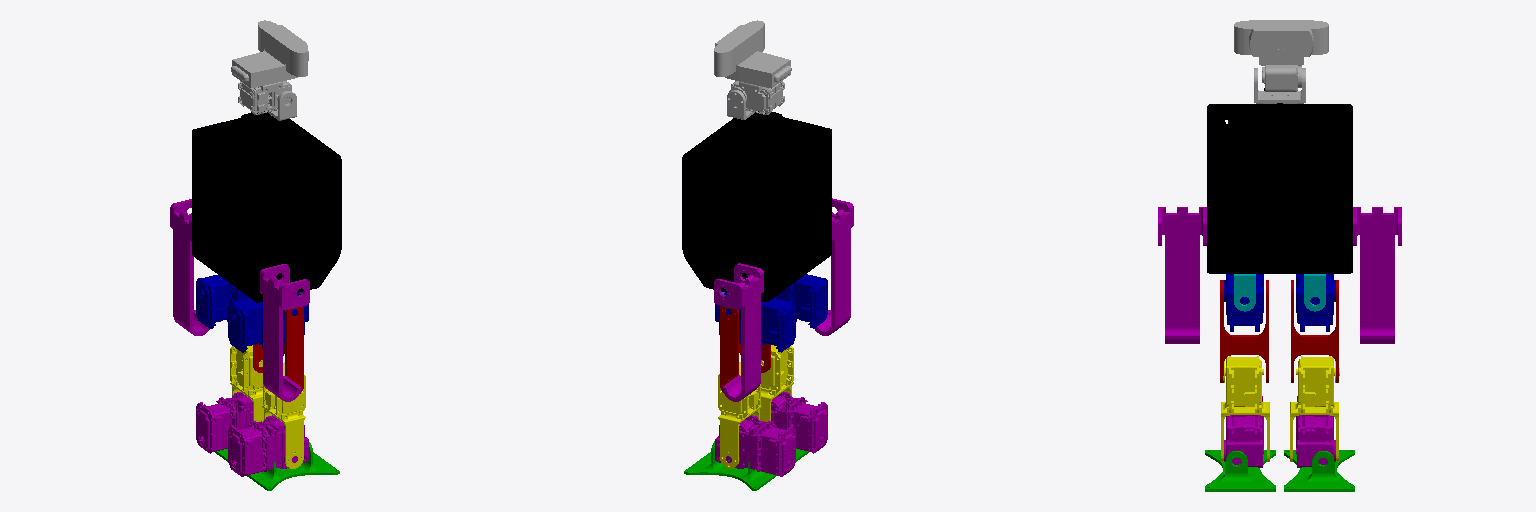
URDF robot description (soccerbot):
<?xml version="1.0" ?>
<!-- =================================================================================== -->
<!-- |    This document was autogenerated by xacro from models/soccerbot.xacro         | -->
<!-- |    EDITING THIS FILE BY HAND IS NOT RECOMMENDED                                 | -->
<!-- =================================================================================== -->
<robot name="soccerbot">
  <material name="white">
    <color rgba="1.0 1.0 1.0 1.0"/>
  </material>
  <material name="black">
    <color rgba="0.0 0.0 0.0 1.0"/>
  </material>
  <material name="silver">
    <color rgba="0.7 0.7 0.7 1.0"/>
  </material>
  <material name="yellow">
    <color rgba="0.9 0.9 0.0 1.0"/>
  </material>
  <material name="red">
    <color rgba="0.7 0.0 0.0 1.0"/>
  </material>
  <material name="green">
    <color rgba="0.0 0.7 0.0 1.0"/>
  </material>
  <material name="blue">
    <color rgba="0.0 0.0 0.7 1.0"/>
  </material>
  <material name="purple">
    <color rgba="0.7 0.0 0.7 1.0"/>
  </material>
  <material name="cyan">
    <color rgba="0.0 0.7 0.7 1.0"/>
  </material>
  <link name="/torso">
    <inertial>
      <mass value="1.529"/>
      <origin rpy="0 0 0" xyz="0.0082498 -0.0017440 -0.0522479"/>
      <inertia ixx="4.323e-3" ixy="5.549e-6" ixz="3.960e-5" iyy="5.198e-3" iyz="-1.509e-5" izz="3.567e-3"/>
    </inertial>
    <collision name="collision">
      <origin rpy="0 0 0" xyz="0 0 0"/>
      <geometry>
        <mesh filename="../meshes/torso.dae" scale="1 1 1"/>
      </geometry>
    </collision>
    <visual name="visual">
      <origin rpy="0 0 0" xyz="0 0 0"/>
      <geometry>
        <mesh filename="../meshes/torso.dae" scale="1 1 1"/>
      </geometry>
      <material name="black"/>
    </visual>
  </link>
  <link name="/left_bicep">
    <inertial>
      <mass value="0.213e-3"/>
      <origin rpy="0  0  0" xyz="0.000 0.02579 -0.04955"/>
      <inertia ixx="2.824e-4" ixy="0.000" ixz="0.0" iyy="2.744e-4" iyz="1.165e-05" izz="2.433e-5"/>
    </inertial>
    <collision name="collision">
      <origin rpy="0  0  0" xyz="0 0.0025 0"/>
      <geometry>
        <mesh filename="../meshes/left_bicep.dae" scale="1 1 1"/>
      </geometry>
    </collision>
    <visual name="visual">
      <origin rpy="0  0  0" xyz="0  0  0"/>
      <geometry>
        <mesh filename="../meshes/left_bicep.dae" scale="1 1 1"/>
      </geometry>
      <material name="white"/>
    </visual>
  </link>
  <link name="/left_forearm">
    <inertial>
      <mass value="45.7e-3"/>
      <origin rpy="0  0  0" xyz="0 0.0245 -0.0546097"/>
      <inertia ixx="0.113e-3" ixy="0.000" ixz="1e-06" iyy="0.107e-3" iyz="0.0" izz="0.012e-3"/>
    </inertial>
    <collision name="collision">
      <origin rpy="0  0  0" xyz="-0.0055 0.005 0"/>
      <geometry>
        <mesh filename="../meshes/left_forearm.dae" scale="1 1 1"/>
      </geometry>
    </collision>
    <visual name="visual">
      <origin rpy="0  0  0" xyz="0  0  0"/>
      <geometry>
        <mesh filename="../meshes/left_forearm.dae" scale="1 1 1"/>
      </geometry>
      <material name="purple"/>
    </visual>
  </link>
  <joint name="left_arm_motor_0" type="revolute">
    <parent link="/torso"/>
    <child link="/left_bicep"/>
    <origin rpy="0 0 0" xyz="-0.0157 0.0725 0"/>
    <axis xyz="0 -1 0"/>
    <dynamics damping="0.01" friction="0.1"/>
    <limit effort="1.5" lower="-1.5707963267948966" upper="3.9269908169872414" velocity="1"/>
  </joint>
  <joint name="left_arm_motor_1" type="revolute">
    <parent link="/left_bicep"/>
    <child link="/left_forearm"/>
    <origin rpy="0 0 0" xyz="0 0 -0.10"/>
    <axis xyz="0 -1 0"/>
    <dynamics damping="0.01" friction="0.1"/>
    <limit effort="1.5" lower="0" upper="3.141592653589793" velocity="1"/>
  </joint>
  <link name="/right_bicep">
    <inertial>
      <mass value="0.213e-3"/>
      <origin rpy="0  0  0" xyz="0.000 -0.02579 -0.04955"/>
      <inertia ixx="2.824e-4" ixy="0.000" ixz="-0.0" iyy="2.744e-4" iyz="-1.165e-05" izz="2.433e-5"/>
    </inertial>
    <collision name="collision">
      <origin rpy="0  0  0" xyz="0 -0.0025 0"/>
      <geometry>
        <mesh filename="../meshes/right_bicep.dae" scale="1 1 1"/>
      </geometry>
    </collision>
    <visual name="visual">
      <origin rpy="0  0  0" xyz="0  0  0"/>
      <geometry>
        <mesh filename="../meshes/right_bicep.dae" scale="1 1 1"/>
      </geometry>
      <material name="white"/>
    </visual>
  </link>
  <link name="/right_forearm">
    <inertial>
      <mass value="45.7e-3"/>
      <origin rpy="0  0  0" xyz="0 -0.0245 -0.0546097"/>
      <inertia ixx="0.113e-3" ixy="0.000" ixz="-1e-06" iyy="0.107e-3" iyz="-0.0" izz="0.012e-3"/>
    </inertial>
    <collision name="collision">
      <origin rpy="0  0  0" xyz="-0.0055 -0.005 0"/>
      <geometry>
        <mesh filename="../meshes/right_forearm.dae" scale="1 1 1"/>
      </geometry>
    </collision>
    <visual name="visual">
      <origin rpy="0  0  0" xyz="0  0  0"/>
      <geometry>
        <mesh filename="../meshes/right_forearm.dae" scale="1 1 1"/>
      </geometry>
      <material name="purple"/>
    </visual>
  </link>
  <joint name="right_arm_motor_0" type="revolute">
    <parent link="/torso"/>
    <child link="/right_bicep"/>
    <origin rpy="0 0 0" xyz="-0.0157 -0.0725 0"/>
    <axis xyz="0 -1 0"/>
    <dynamics damping="0.01" friction="0.1"/>
    <limit effort="1.5" lower="-1.5707963267948966" upper="3.9269908169872414" velocity="1"/>
  </joint>
  <joint name="right_arm_motor_1" type="revolute">
    <parent link="/right_bicep"/>
    <child link="/right_forearm"/>
    <origin rpy="0 0 0" xyz="0 0 -0.10"/>
    <axis xyz="0 -1 0"/>
    <dynamics damping="0.01" friction="0.1"/>
    <limit effort="1.5" lower="0" upper="3.141592653589793" velocity="1"/>
  </joint>
  <link name="/left_hip_side">
    <inertial>
      <mass value="9.364e-3"/>
      <origin rpy="0  0  0" xyz="0.0003695 0.0000 0.01689"/>
      <inertia ixx="0.002e-3" ixy="0.000" ixz="0.000" iyy="0.005e-3" iyz="0.000" izz="0.004e-3"/>
    </inertial>
    <collision name="collision">
      <origin rpy="0  0  0" xyz="0 0.0 0.03"/>
        <geometry>
            <box size="0.0485 0.022 0.00005"/>
        </geometry>
    </collision>
    <visual name="visual">
      <origin rpy="0  0  0" xyz="0  0  0"/>
      <geometry>
        <mesh filename="../meshes/left_hip_side.dae" scale="1 1 1"/>
      </geometry>
      <material name="cyan"/>
    </visual>
  </link>
  <link name="/left_hip_front">
    <inertial>
      <mass value="153.186e-3"/>
      <origin rpy="0 0 0" xyz="-0.02093 0 -0.011313"/>
      <inertia ixx="0.041e-3" ixy="0.000" ixz="-0.002e-3" iyy="0.118e-3" iyz="0.000" izz="0.106e-3"/>
    </inertial>
    <collision name="collision">
      <origin rpy="0 0 0" xyz="-0.02187 0.0 -0.01332"/>
      <geometry>
        <box size="0.083747 0.04885 0.0506"/>
      </geometry>
    </collision>
    <visual name="visual">
      <origin rpy="0  0  0" xyz="0  0  0"/>
      <geometry>
        <mesh filename="../meshes/left_hip_front.dae" scale="1 1 1"/>
      </geometry>
      <material name="blue"/>
    </visual>
  </link>
  <link name="/left_thigh">
    <inertial>
      <mass value="21.438e-3"/>
      <origin rpy="0 0 0" xyz="0.0019422 0.0001419 -0.0469409"/>
      <inertia ixx="0.025e-3" ixy="2e-06" ixz="0.000" iyy="0.016e-3" iyz="0.000" izz="0.010e-3"/>
    </inertial>
    <collision name="collision">
      <origin rpy="0 0 0" xyz="0 0 -0.0445"/>
      <geometry>
        <box size="0.022 0.048 0.111"/>
      </geometry>
    </collision>
    <visual name="visual">
      <origin rpy="0  0  0" xyz="0  0  0"/>
      <geometry>
        <mesh filename="../meshes/left_thigh.dae" scale="1 1 1"/>
      </geometry>
      <material name="red"/>
    </visual>
  </link>
  <link name="/left_calve">
    <inertial>
      <mass value="86.547e-3"/>
      <origin rpy="0  0  0" xyz="0 -3.259e-07 -0.0150123e-3"/>
      <inertia ixx="0.054e-3" ixy="0.000" ixz="0.000" iyy="0.046e-3" iyz="-0.001e-3" izz="0.019e-3"/>
    </inertial>
    <collision name="collision">
      <origin rpy="0 0 0" xyz="0 0 -0.03385"/>
      <geometry>
        <box size="0.031883 0.048 0.105683"/>
      </geometry>
    </collision>
    <visual name="visual">
      <origin rpy="0 0 0" xyz="0 0 -0.0865"/>
      <geometry>
        <mesh filename="../meshes/left_calve.dae" scale="1 1 1"/>
      </geometry>
      <material name="yellow"/>
    </visual>
  </link>
  <link name="/left_ankle">
    <inertial>
      <mass value="153.186e-3"/>
      <origin rpy="0 0 0" xyz="-0.020939e-3 0.000 0.011313e-3"/>
      <inertia ixx="0.041e-3" ixy="0.000" ixz="0.002e-3" iyy="0.118e-3" iyz="0.000" izz="0.106e-3"/>
    </inertial>
    <collision name="collision">
      <origin rpy="0 0 0" xyz="-0.02014 0.0 0.01031"/>
      <geometry>
        <box size="0.090769 0.042 0.0506"/>
      </geometry>
    </collision>
    <visual name="visual">
      <origin rpy="0 0 0" xyz="0  0  0"/>
      <geometry>
        <mesh filename="../meshes/left_ankle.dae" scale="1 1 1"/>
      </geometry>
      <material name="purple"/>
    </visual>
  </link>
  <link name="/left_foot">
    <inertial>
      <mass value="23.216e-3"/>
      <origin rpy="0 0 0" xyz="-0.020939 0.0 0.011313"/>
      <inertia ixx="0.006e-3" ixy="0.000" ixz="0.000" iyy="0.018e-3" iyz="0.000" izz="0.022e-3"/>
    </inertial>
    <collision name="collision">
      <origin rpy="0 0 0" xyz="0.00225 0.00401 -0.0205 "/>
      <geometry>
        <box size="0.09 0.07 0.003"/>
      </geometry>
      <contact_coefficients mu="100.0"/>
    </collision>
    <visual name="visual">
      <origin rpy="0  0  0" xyz="0  0.00802  0"/>
      <geometry>
        <mesh filename="../meshes/left_foot.dae" scale="1 1 1"/>
      </geometry>
      <material name="green"/>
    </visual>
  </link>
  <joint name="left_leg_motor_0" type="revolute">
    <parent link="/torso"/>
    <child link="/left_hip_side"/>
    <origin rpy="0 0 0" xyz="0.0135 0.035 -0.156"/>
    <axis xyz="0 0 -1"/>
    <dynamics damping="0.01" friction="0.1"/>
    <limit effort="2.5" lower="-1.309" upper="0.524" velocity="1"/>
  </joint>
  <joint name="left_leg_motor_1" type="revolute">
    <parent link="/left_hip_side"/>
    <child link="/left_hip_front"/>
    <origin rpy="0 0 0" xyz="0 0 0"/>
    <axis xyz="1 0 0"/>
    <dynamics damping="0.01" friction="0.1"/>
    <limit effort="2.5" lower="-0.7853981633974483" upper="1.5707963267948966" velocity="1"/>
  </joint>
  <joint name="left_leg_motor_2" type="revolute">
    <parent link="/left_hip_front"/>
    <child link="/left_thigh"/>
    <origin rpy="0 0 0" xyz="0 0 0"/>
    <axis xyz="0 -1 0"/>
    <dynamics damping="0.01" friction="0.1"/>
    <limit effort="2.5" lower="-0.7853981633974483" upper="2.356194490192345" velocity="1"/>
  </joint>
  <joint name="left_leg_motor_3" type="revolute">
    <parent link="/left_thigh"/>
    <child link="/left_calve"/>
    <origin rpy="0 0 0" xyz="0 0 -0.08900"/>
    <axis xyz="0 -1 0"/>
    <dynamics damping="0.01" friction="0.1"/>
    <limit effort="2.5" lower="-2.793" upper="0" velocity="1"/>
  </joint>
  <joint name="left_leg_motor_4" type="revolute">
    <parent link="/left_calve"/>
    <child link="/left_ankle"/>
    <origin rpy="0 0 0" xyz="0 0 -0.0865"/>
    <axis xyz="0 -1 0"/>
    <dynamics damping="0.01" friction="0.1"/>
    <limit effort="2.5" lower="-0.7853981633974483" upper="1.5707963267948966" velocity="1"/>
  </joint>
  <joint name="left_leg_motor_5" type="revolute">
    <parent link="/left_ankle"/>
    <child link="/left_foot"/>
    <origin rpy="0 0 0" xyz="0 0 0"/>
    <axis xyz="1 0 0"/>
    <dynamics damping="0.01" friction="0.1"/>
    <limit effort="2.5" lower="-0.7853981633974483" upper="0.7853981633974483" velocity="1"/>
  </joint>
  <link name="/right_hip_side">
    <inertial>
      <mass value="9.364e-3"/>
      <origin rpy="0  0  0" xyz="0.0003695 0.0000 0.01689"/>
      <inertia ixx="0.002e-3" ixy="0.000" ixz="0.000" iyy="0.005e-3" iyz="0.000" izz="0.004e-3"/>
    </inertial>
    <collision name="collision">
      <origin rpy="0  0  0" xyz="0 0 0.03"/>
        <geometry>
            <box size="0.0485 0.022 0.00005"/>
        </geometry>
    </collision>
    <visual name="visual">
      <origin rpy="0  0  0" xyz="0  0  0"/>
      <geometry>
        <mesh filename="../meshes/right_hip_side.dae" scale="1 1 1"/>
      </geometry>
      <material name="cyan"/>
    </visual>
  </link>
  <link name="/right_hip_front">
    <inertial>
      <mass value="153.186e-3"/>
      <origin rpy="0 0 0" xyz="-0.02093 0 -0.011313"/>
      <inertia ixx="0.041e-3" ixy="0.000" ixz="-0.002e-3" iyy="0.118e-3" iyz="0.000" izz="0.106e-3"/>
    </inertial>
    <collision name="collision">
      <origin rpy="0 0 0" xyz="-0.02187 0 -0.01332"/>
      <geometry>
        <box size="0.083747 0.04885 0.0506"/>
      </geometry>
    </collision>
    <visual name="visual">
      <origin rpy="0  0  0" xyz="0  0  0"/>
      <geometry>
        <mesh filename="../meshes/right_hip_front.dae" scale="1 1 1"/>
      </geometry>
      <material name="blue"/>
    </visual>
  </link>
  <link name="/right_thigh">
    <inertial>
      <mass value="21.438e-3"/>
      <origin rpy="0 0 0" xyz="0.0019422 -0.0001419 -0.0469409"/>
      <inertia ixx="0.025e-3" ixy="-2e-06" ixz="0.000" iyy="0.016e-3" iyz="0.000" izz="0.010e-3"/>
    </inertial>
    <collision name="collision">
      <origin rpy="0 0 0" xyz="0 0 -0.0445"/>
      <geometry>
        <box size="0.022 0.048 0.111"/>
      </geometry>
    </collision>
    <visual name="visual">
      <origin rpy="0  0  0" xyz="0  0  0"/>
      <geometry>
        <mesh filename="../meshes/right_thigh.dae" scale="1 1 1"/>
      </geometry>
      <material name="red"/>
    </visual>
  </link>
  <link name="/right_calve">
    <inertial>
      <mass value="86.547e-3"/>
      <origin rpy="0  0  0" xyz="0 3.259e-07 -0.0150123e-3"/>
      <inertia ixx="0.054e-3" ixy="0.000" ixz="0.000" iyy="0.046e-3" iyz="-0.001e-3" izz="0.019e-3"/>
    </inertial>
    <collision name="collision">
      <origin rpy="0 0 0" xyz="0 0 -0.03385"/>
      <geometry>
        <box size="0.031883 0.048 0.105683"/>
      </geometry>
    </collision>
    <visual name="visual">
      <origin rpy="0 0 0" xyz="0 0 -0.0865"/>
      <geometry>
        <mesh filename="../meshes/right_calve.dae" scale="1 1 1"/>
      </geometry>
      <material name="yellow"/>
    </visual>
  </link>
  <link name="/right_ankle">
    <inertial>
      <mass value="153.186e-3"/>
      <origin rpy="0 0 0" xyz="-0.020939e-3 0.000 0.011313e-3"/>
      <inertia ixx="0.041e-3" ixy="0.000" ixz="0.002e-3" iyy="0.118e-3" iyz="0.000" izz="0.106e-3"/>
    </inertial>
    <collision name="collision">
      <origin rpy="0 0 0" xyz="-0.02014 0 0.01031"/>
      <geometry>
        <box size="0.090769 0.042 0.0506"/>
      </geometry>
    </collision>
    <visual name="visual">
      <origin rpy="0 0 0" xyz="0  0  0"/>
      <geometry>
        <mesh filename="../meshes/right_ankle.dae" scale="1 1 1"/>
      </geometry>
      <material name="purple"/>
    </visual>
  </link>
  <link name="/right_foot">
    <inertial>
      <mass value="23.216e-3"/>
      <origin rpy="0 0 0" xyz="-0.020939 0.0 0.011313"/>
      <inertia ixx="0.006e-3" ixy="0.000" ixz="0.000" iyy="0.018e-3" iyz="0.000" izz="0.022e-3"/>
    </inertial>
    <collision name="collision">
      <origin rpy="0 0 0" xyz="0.00225 -0.00401 -0.0205 "/>
      <geometry>
        <box size="0.09 0.07 0.003"/>
      </geometry>
      <contact_coefficients mu="100.0"/>
    </collision>
    <visual name="visual">
      <origin rpy="0  0  0" xyz="0  -0.00802  0"/>
      <geometry>
        <mesh filename="../meshes/right_foot.dae" scale="1 1 1"/>
      </geometry>
      <material name="green"/>
    </visual>
  </link>
  <joint name="right_leg_motor_0" type="revolute">
    <parent link="/torso"/>
    <child link="/right_hip_side"/>
    <origin rpy="0 0 0" xyz="0.0135 -0.035 -0.156"/>
    <axis xyz="0 0 1"/>
    <dynamics damping="0.01" friction="0.1"/>
    <limit effort="2.5" lower="-1.309" upper="0.524" velocity="1"/>
  </joint>
  <joint name="right_leg_motor_1" type="revolute">
    <parent link="/right_hip_side"/>
    <child link="/right_hip_front"/>
    <origin rpy="0 0 0" xyz="0 0 0"/>
    <axis xyz="-1 0 0"/>
    <dynamics damping="0.01" friction="0.1"/>
    <limit effort="2.5" lower="-0.7853981633974483" upper="1.5707963267948966" velocity="1"/>
  </joint>
  <joint name="right_leg_motor_2" type="revolute">
    <parent link="/right_hip_front"/>
    <child link="/right_thigh"/>
    <origin rpy="0 0 0" xyz="0 0 0"/>
    <axis xyz="0 -1 0"/>
    <dynamics damping="0.01" friction="0.1"/>
    <limit effort="2.5" lower="-0.7853981633974483" upper="2.356194490192345" velocity="1"/>
  </joint>
  <joint name="right_leg_motor_3" type="revolute">
    <parent link="/right_thigh"/>
    <child link="/right_calve"/>
    <origin rpy="0 0 0" xyz="0 0 -0.089"/>
    <axis xyz="0 -1 0"/>
    <dynamics damping="0.01" friction="0.1"/>
    <limit effort="2.5" lower="-2.793" upper="0" velocity="1"/>
  </joint>
  <joint name="right_leg_motor_4" type="revolute">
    <parent link="/right_calve"/>
    <child link="/right_ankle"/>
    <origin rpy="0 0 0" xyz="0 0 -0.0865"/>
    <axis xyz="0 -1 0"/>
    <dynamics damping="0.01" friction="0.1"/>
    <limit effort="2.5" lower="-0.7853981633974483" upper="1.5707963267948966" velocity="1"/>
  </joint>
  <joint name="right_leg_motor_5" type="revolute">
    <parent link="/right_ankle"/>
    <child link="/right_foot"/>
    <origin rpy="0 0 0" xyz="0 0 0"/>
    <axis xyz="-1 0 0"/>
    <dynamics damping="0.01" friction="0.1"/>
    <limit effort="2.5" lower="-0.7853981633974483" upper="0.7853981633974483" velocity="1"/>
  </joint>
  <link name="/neck">
    <inertial>
      <mass value="0.011294"/>
      <origin rpy="0  0  0" xyz="0 -0.0006476 0.0092453"/>
      <inertia ixx="5.489e-6" ixy="0" ixz="0" iyy="1.433e-6" iyz="0" izz="4.955e-6"/>
    </inertial>
    <collision name="collision">
      <origin rpy="0  0  0" xyz="0 0 0.0165"/>
      <geometry>
        <mesh filename="../meshes/neck.dae" scale="1 1 1"/>
      </geometry>
    </collision>
    <visual name="visual">
      <origin rpy="0  0  0" xyz="0  0  0"/>
      <geometry>
        <mesh filename="../meshes/neck.dae" scale="1 1 1"/>
      </geometry>
      <material name="silver"/>
    </visual>
  </link>
  <link name="/head">
    <inertial>
      <mass value="0.282"/>
      <origin rpy="0  0  0" xyz="0.0237166 0.0018096 0.0255966"/>
      <inertia ixx="2.06e-4" ixy="1.06e-6" ixz="-5.73e-5" iyy="2.057e-4" iyz="2.534e-6" izz="1.603e-4"/>
    </inertial>
    <collision name="collision">
      <origin rpy="0  0  0" xyz="-0.013 0 0.025"/>
      <geometry>
        <mesh filename="../meshes/head.dae" scale="1 1 1"/>
      </geometry>
    </collision>
    <visual name="visual">
      <origin rpy="0  0  0" xyz="0  0  0"/>
      <geometry>
        <mesh filename="../meshes/head.dae" scale="1 1 1"/>
      </geometry>
      <material name="silver"/>
    </visual>
  </link>
  <joint name="head_motor_0" type="revolute">
    <parent link="/torso"/>
    <child link="/neck"/>
    <origin rpy="0 0 0" xyz="0.024 0 0.05875"/>
    <axis xyz="0 0 1"/>
    <dynamics damping="0.01" friction="0.1"/>
    <limit effort="1.5" lower="-1.5707963267948966" upper="1.5707963267948966" velocity="1"/>
  </joint>
  <joint name="head_motor_1" type="revolute">
    <parent link="/neck"/>
    <child link="/head"/>
    <origin rpy="0 0 0" xyz="0 0 0.024"/>
    <axis xyz="0 1 0"/>
    <dynamics damping="0.01" friction="0.1"/>
    <limit effort="1.5" lower="-2.356194490192345" upper="2.356194490192345" velocity="1"/>
  </joint>
  <link name="/imu_link">
    <inertial>
      <mass value="0.01"/>
      <origin rpy="0  0  0" xyz="0 0 0"/>
      <inertia ixx="1e-9" ixy="0" ixz="0" iyy="1e-9" iyz="0" izz="1e-9"/>
    </inertial>
  </link>
  <joint name="/torso_imu" type="fixed">
    <parent link="/torso"/>
    <child link="/imu_link"/>
    <origin rpy="0 0 0" xyz="0.0 0 0.000"/>
    <axis xyz="0 0 0"/>
  </joint>
  <link name="/camera">
    <inertial>
      <mass value="0.01"/>
      <origin rpy="0  0  0" xyz="0 0 0"/>
      <inertia ixx="1e-9" ixy="0" ixz="0" iyy="1e-9" iyz="0" izz="1e-9"/>
    </inertial>
  </link>
  <joint name="/head_camera" type="fixed">
    <parent link="/head"/>
    <child link="/camera"/>
    <origin rpy="0 0 0" xyz="0.015 0.00145 0.04740"/>
    <axis xyz="0  0  0"/>
    <dynamics damping="0.01" friction="0.1"/>
    <limit effort="0" lower="0" upper="0" velocity="0"/>
  </joint>
</robot>

--- Facts derived from the render (not from the file) ---
3 views of the same robot in one strip: view 1: azimuth 30°, elevation 25°; view 2: azimuth 150°, elevation 25°; view 3: azimuth 270°, elevation 25° (orthographic).
Model soccerbot with 21 links and 20 joints (18 revolute, 2 fixed), rooted at /torso, posed every joint at zero.
Links seen in each view (by area): view 1: /torso, /head, /right_forearm, /right_ankle, /left_forearm, /left_ankle, /right_calve, /right_hip_front, /left_hip_front, /left_calve, /right_thigh, /right_foot; view 2: /torso, /head, /left_forearm, /left_ankle, /right_forearm, /right_ankle, /left_calve, /left_hip_front, /right_hip_front, /right_calve, /left_thigh, /left_foot (+1 smaller); view 3: /torso, /left_forearm, /right_forearm, /head, /left_calve, /right_calve, /left_foot, /right_foot, /left_ankle, /right_ankle, /right_thigh, /left_thigh (+5 smaller).
Link boxes in pixels (box(x1,y1,x2,y2)): /torso: box(192, 111, 341, 302); /head: box(231, 20, 308, 114); /right_forearm: box(260, 264, 309, 401); /right_ankle: box(228, 415, 308, 476); /left_forearm: box(170, 199, 209, 335); /left_ankle: box(196, 392, 252, 453); /right_calve: box(262, 362, 305, 468); /right_hip_front: box(228, 293, 308, 352); /left_hip_front: box(196, 275, 248, 328); /left_calve: box(230, 345, 263, 421); /right_thigh: box(283, 307, 303, 393); /right_foot: box(247, 442, 339, 490); /torso: box(682, 111, 831, 301); /head: box(714, 20, 791, 114); /left_forearm: box(714, 263, 763, 401); /left_ankle: box(715, 415, 795, 476); /right_forearm: box(814, 198, 853, 335); /right_ankle: box(771, 391, 827, 453); /left_calve: box(718, 362, 761, 468); /left_hip_front: box(715, 293, 795, 352); /right_hip_front: box(774, 274, 827, 328); /right_calve: box(760, 345, 793, 421); /left_thigh: box(720, 306, 740, 392); /left_foot: box(684, 441, 776, 490); /torso: box(1207, 88, 1352, 273); /left_forearm: box(1353, 207, 1401, 343); /right_forearm: box(1158, 207, 1206, 343); /head: box(1234, 20, 1328, 91); /left_calve: box(1290, 356, 1339, 461); /right_calve: box(1221, 356, 1269, 461); /left_foot: box(1284, 450, 1354, 491); /right_foot: box(1205, 450, 1275, 491); /left_ankle: box(1296, 396, 1335, 467); /right_ankle: box(1224, 396, 1263, 467); /right_thigh: box(1220, 280, 1268, 382); /left_thigh: box(1291, 280, 1338, 382).
Bounding box of the posed robot: 0.1143 × 0.243 × 0.4981 m (x, y, z).
Meshes: 19 distinct files referenced, 17 mesh visuals loaded (17 Collada DAE); not drawn: 2 (reference not matched to a file when rendering).